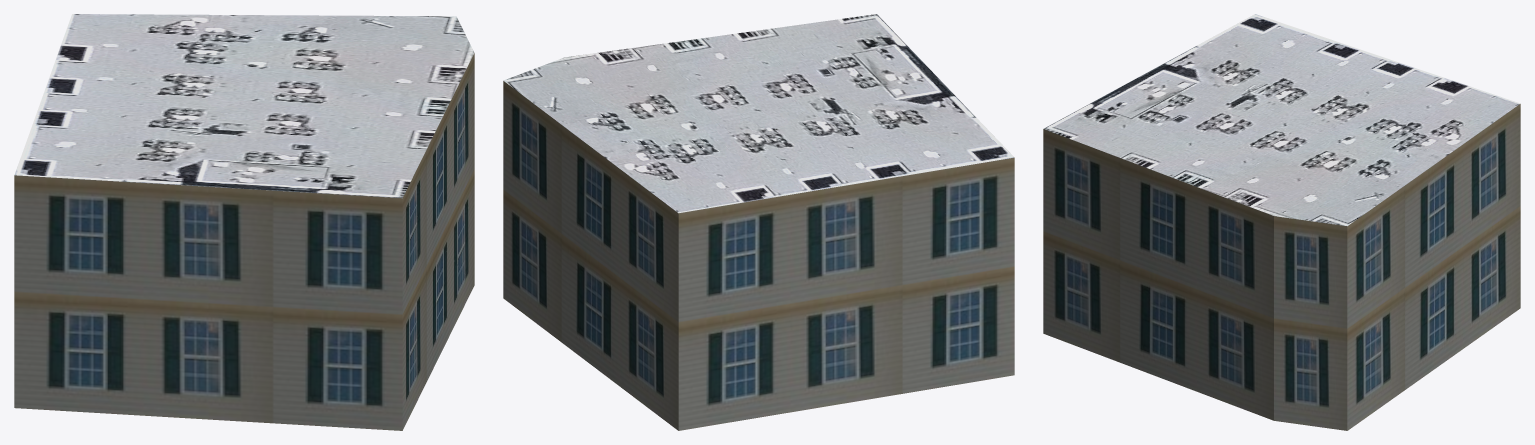
The model's file is ResTex__2405.fbx.
3 renders of one model, left to right at view 1: azimuth 30°, elevation 25°; view 2: azimuth 150°, elevation 25°; view 3: azimuth 270°, elevation 25°, orthographic. The views are drawn at different scales.
Visible parts, largest first — view 1: CityEngineMaterial_7_m, CityEngineMaterial_4_m; view 2: CityEngineMaterial_7_m, CityEngineMaterial_4_m; view 3: CityEngineMaterial_7_m, CityEngineMaterial_4_m.
Boxes of the visible parts, box(x1,y1,x2,y2) form: CityEngineMaterial_7_m: box(14, 53, 474, 430); CityEngineMaterial_4_m: box(14, 14, 474, 198); CityEngineMaterial_7_m: box(503, 81, 1014, 430); CityEngineMaterial_4_m: box(503, 14, 1014, 213); CityEngineMaterial_7_m: box(1043, 104, 1520, 430); CityEngineMaterial_4_m: box(1043, 14, 1520, 226).
Bounding box in the file's own units: 13.34 × 6 × 12.68.
Materials: 2 (2 with a texture image).
